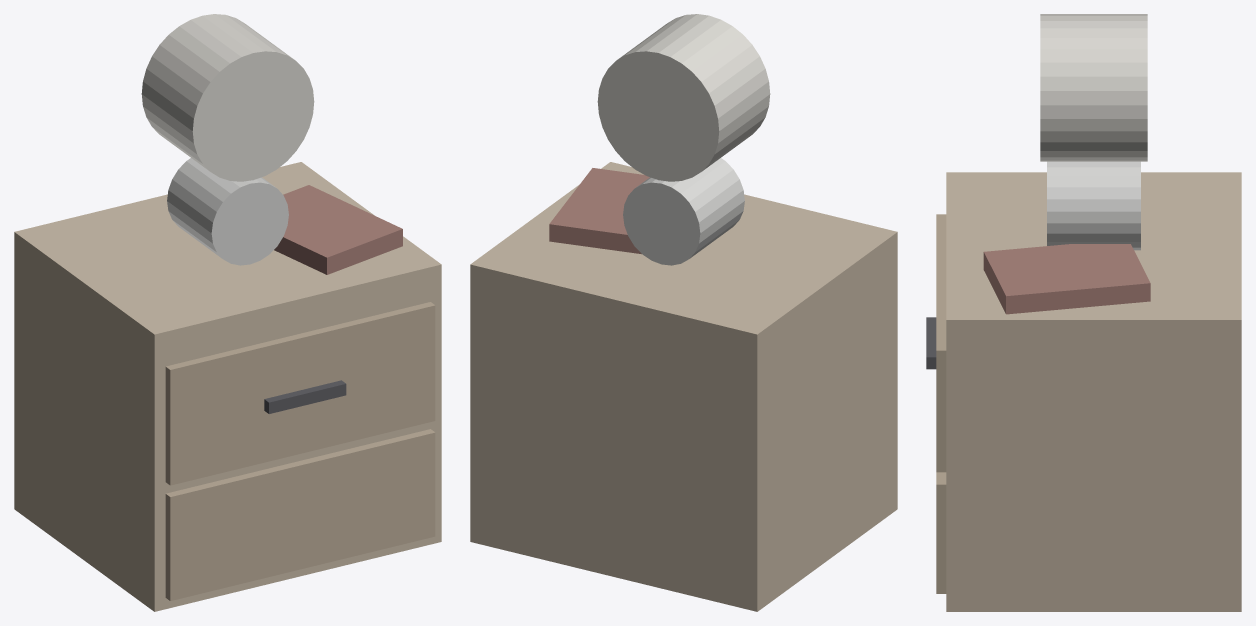
File: bedside_table_lamp.glb
3 views of the same model, side by side, from view 1: azimuth 30°, elevation 25°; view 2: azimuth 150°, elevation 25°; view 3: azimuth 270°, elevation 25° (orthographic). The views are drawn at different scales.
Visible parts, largest first — view 1: geometry_0, geometry_1, geometry_3, geometry_6, geometry_4, geometry_7, geometry_2; view 2: geometry_0, geometry_6, geometry_4, geometry_7; view 3: geometry_0, geometry_6, geometry_7, geometry_4, geometry_1, geometry_3, geometry_2.
Boxes of the visible parts, <box> form: geometry_0: <box>14,162,441,611</box>; geometry_1: <box>165,302,435,485</box>; geometry_3: <box>165,429,435,600</box>; geometry_6: <box>141,14,314,181</box>; geometry_4: <box>167,158,288,265</box>; geometry_7: <box>274,185,402,274</box>; geometry_2: <box>264,380,346,413</box>; geometry_0: <box>470,162,897,611</box>; geometry_6: <box>597,14,770,181</box>; geometry_4: <box>623,158,744,265</box>; geometry_7: <box>549,168,649,254</box>; geometry_0: <box>946,172,1241,611</box>; geometry_6: <box>1040,14,1147,161</box>; geometry_7: <box>983,244,1150,314</box>; geometry_4: <box>1047,161,1140,250</box>; geometry_1: <box>936,214,946,472</box>; geometry_3: <box>936,472,946,593</box>; geometry_2: <box>926,317,936,369</box>.
Size of the model in its own units: 0.52 by 0.85 by 0.47.
